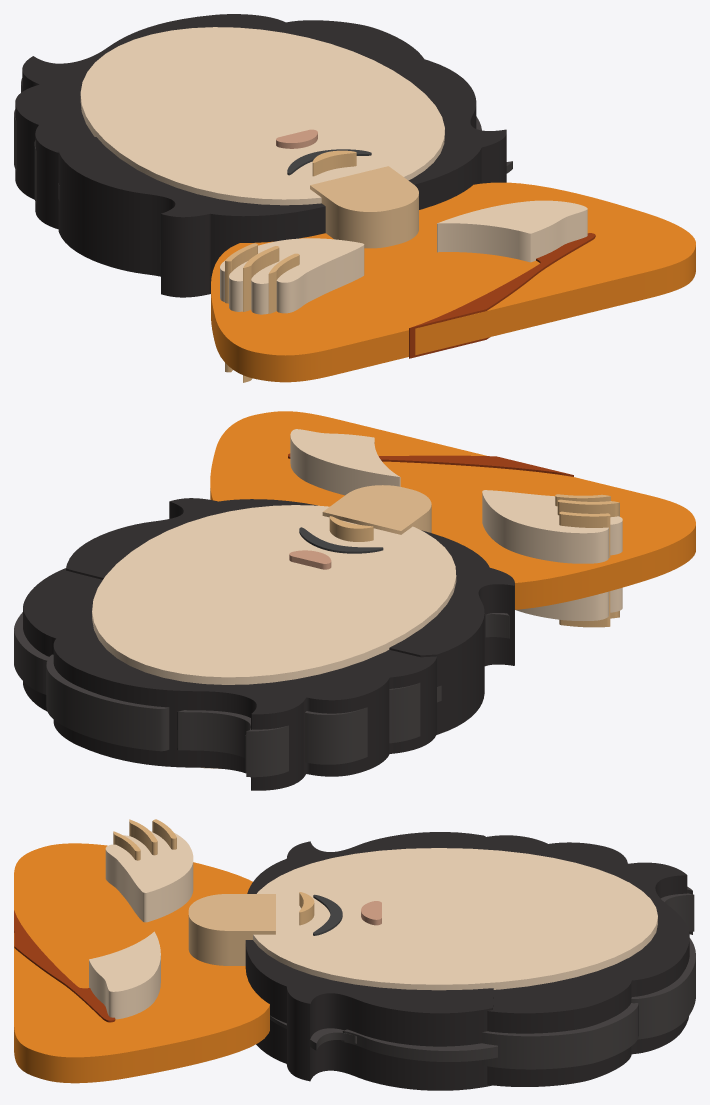
The model's file is emoji_u1f64e_1f3fb.glb.
3 renders of one model, top to bottom at view 1: azimuth 30°, elevation 25°; view 2: azimuth 150°, elevation 25°; view 3: azimuth 270°, elevation 25°, orthographic. The views are drawn at different scales.
Parts seen in each view (by area): view 1: emoji_u1f64e_1f3fb; view 2: emoji_u1f64e_1f3fb; view 3: emoji_u1f64e_1f3fb.
Boxes of the visible parts, x1,y1,x2,y2 form: emoji_u1f64e_1f3fb: [14, 14, 695, 382]; emoji_u1f64e_1f3fb: [14, 411, 695, 790]; emoji_u1f64e_1f3fb: [14, 819, 695, 1090].
Bounding box in the file's own units: 0.0249 × 0.0062 × 0.0335.
